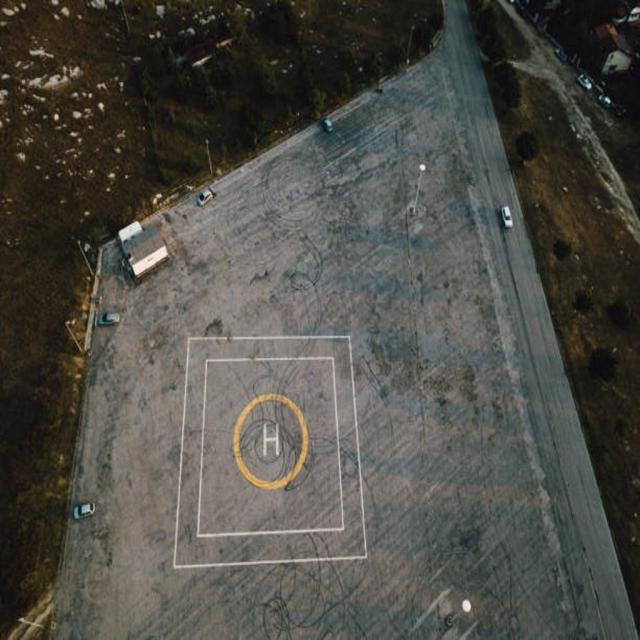helipad: (232, 393, 307, 488)
